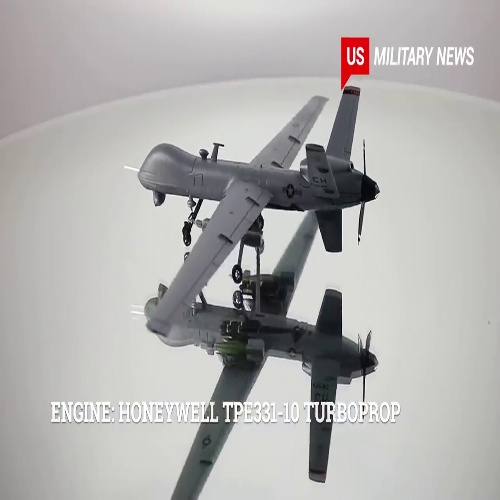uav596: (123, 84, 382, 325), (136, 273, 383, 498)
